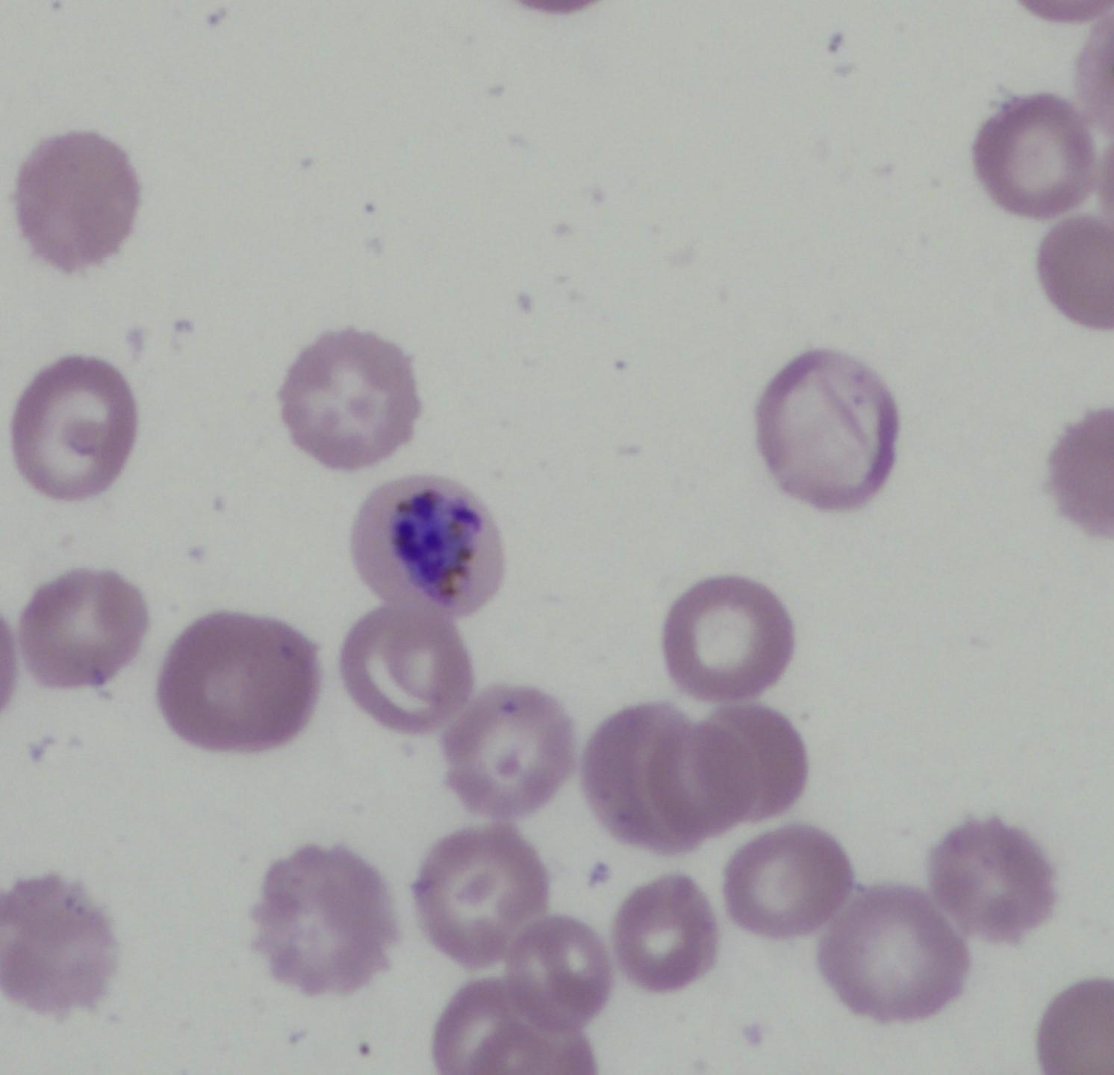Infected: (355, 467, 504, 617)
Uninfected: (756, 350, 898, 513), (161, 613, 317, 756), (252, 839, 395, 992), (819, 884, 973, 1023), (584, 701, 716, 855), (280, 331, 420, 469), (416, 830, 553, 961), (0, 871, 119, 1018), (13, 129, 135, 272), (340, 604, 477, 731), (444, 688, 577, 817), (926, 815, 1058, 943), (17, 357, 138, 495), (973, 90, 1097, 220), (19, 568, 150, 689), (663, 576, 792, 696), (638, 710, 762, 832), (502, 914, 612, 1046), (722, 825, 853, 931), (618, 873, 719, 991)
